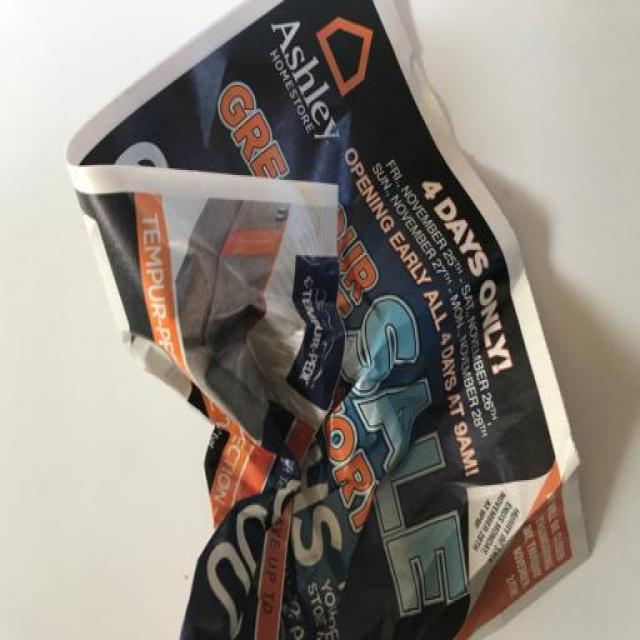paper: (60, 1, 619, 640)
